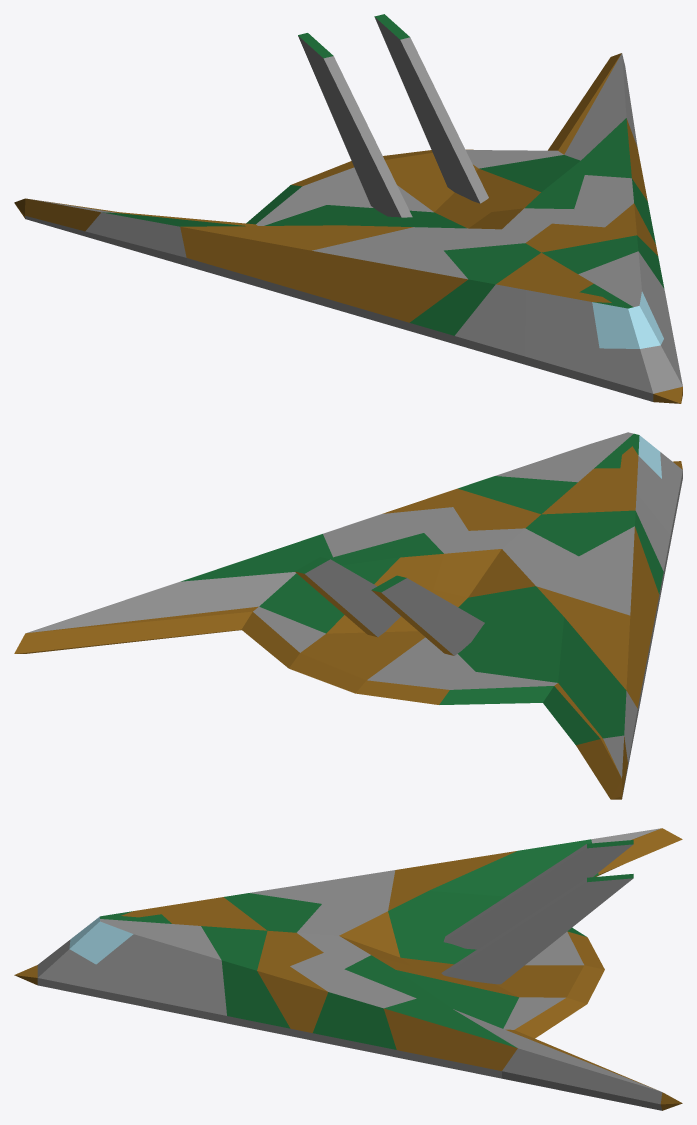
Rendered from InimigoLaser.fbx.
3 views of the same model, one above another, from view 1: azimuth 30°, elevation 25°; view 2: azimuth 150°, elevation 25°; view 3: azimuth 270°, elevation 25° (orthographic). The views are drawn at different scales.
Parts seen in each view (by area): view 1: Cube; view 2: Cube; view 3: Cube.
Boxes of the visible parts, x1,y1,x2,y2 form: Cube: (14, 14, 682, 403); Cube: (14, 432, 682, 799); Cube: (14, 828, 682, 1110).
Size of the model in its own units: 201 by 42.57 by 214.
